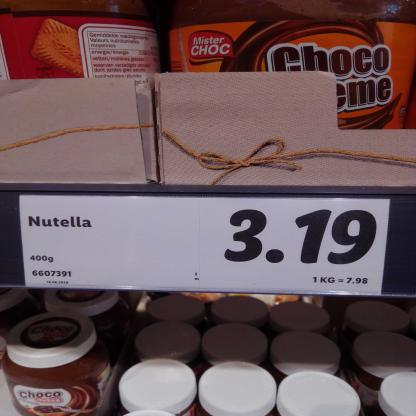prtg: (20, 196, 392, 298)
